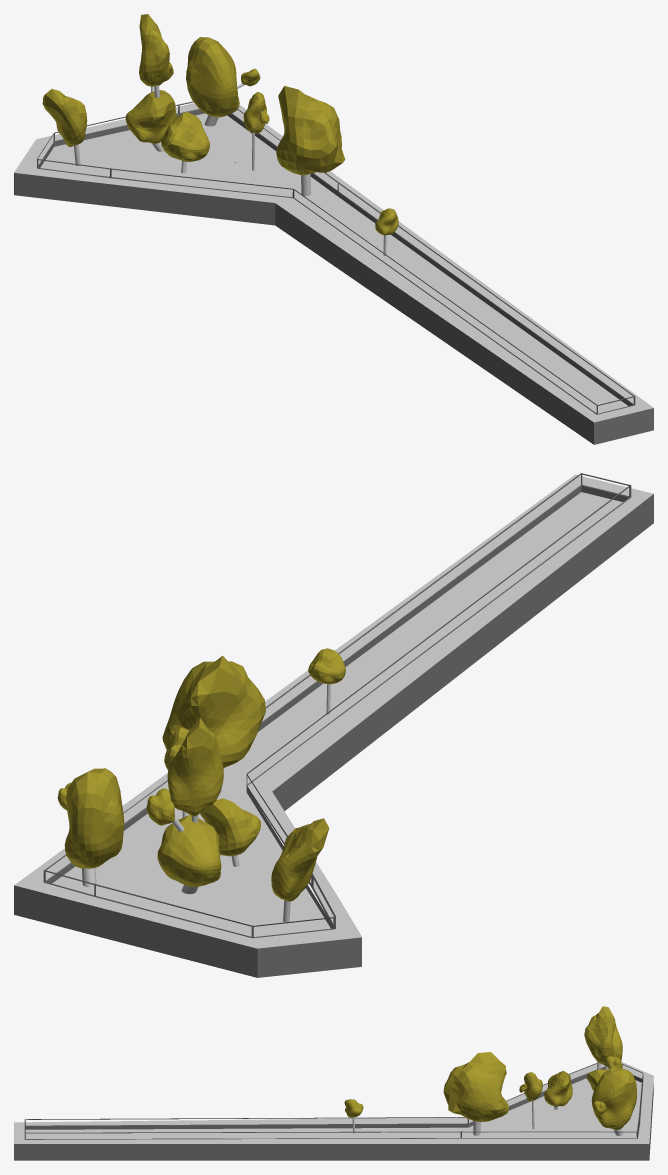
The model's file is jardin.dae.
3 renders of one model, top to bottom at view 1: azimuth 30°, elevation 25°; view 2: azimuth 150°, elevation 25°; view 3: azimuth 270°, elevation 25°, orthographic. The views are drawn at different scales.
Parts seen in each view (by area): view 1: Cube_012; view 2: Cube_012; view 3: Cube_012.
Part boxes in pixels (x1,y1,x2,y2): Cube_012: [14, 14, 653, 444]; Cube_012: [14, 473, 653, 977]; Cube_012: [14, 1006, 653, 1160].
Size of the model in its own units: 384 by 1199 by 237.
